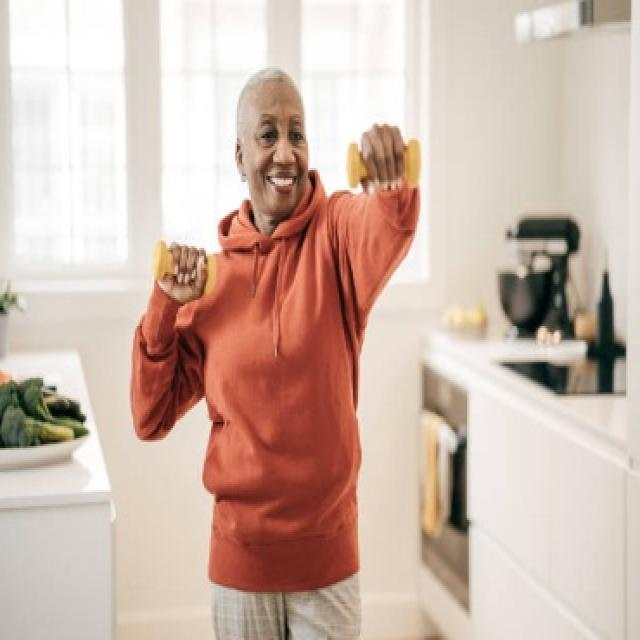adult: (125, 54, 429, 640)
